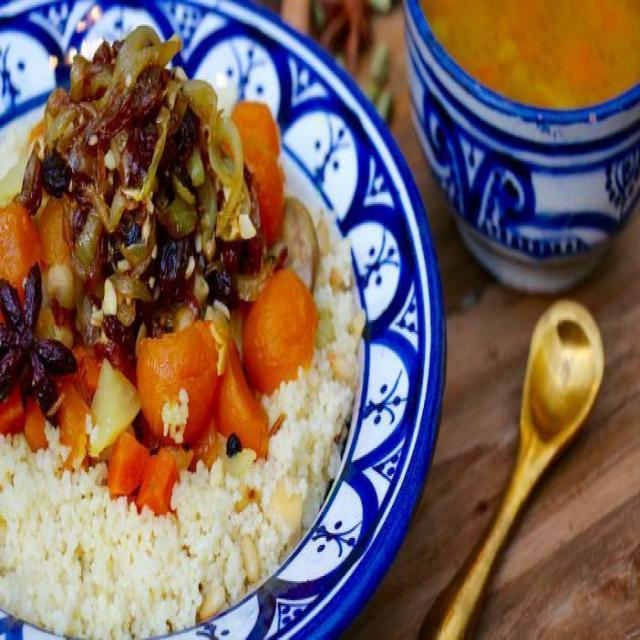Couscous: (1, 9, 359, 640)
